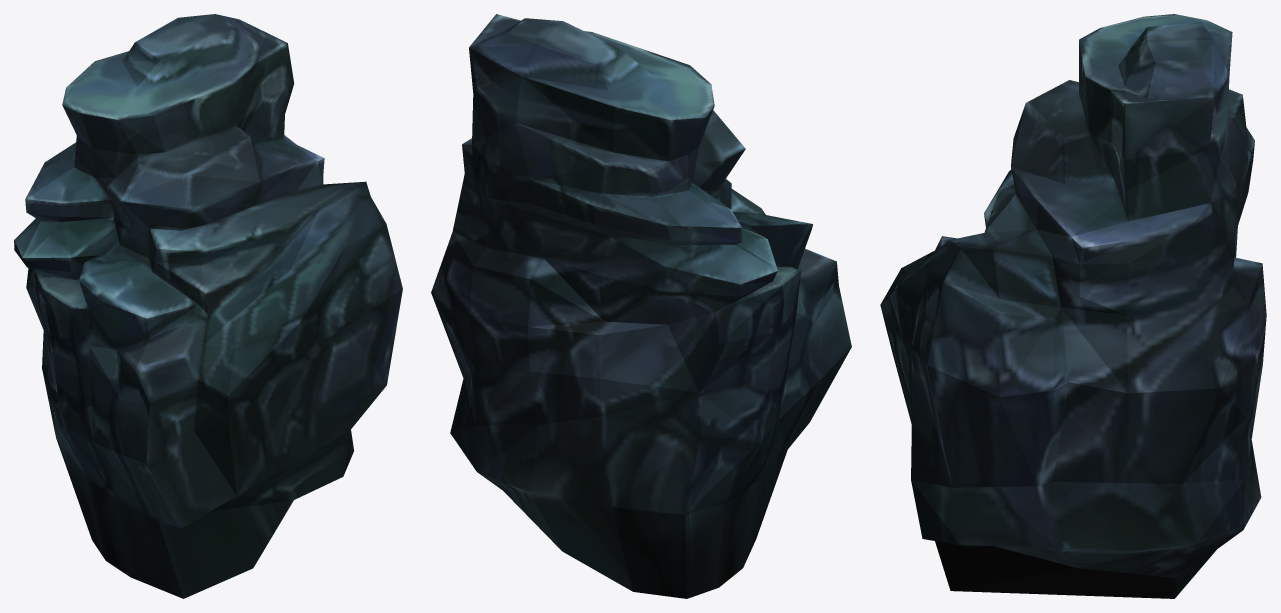
File: H_Maze_shitou02.FBX
3 renders of one model, left to right at view 1: azimuth 30°, elevation 25°; view 2: azimuth 150°, elevation 25°; view 3: azimuth 270°, elevation 25°, orthographic. The views are drawn at different scales.
Parts seen in each view (by area): view 1: shitou02; view 2: shitou02; view 3: shitou02.
Boxes of the visible parts, box(x1,y1,x2,y2) form: shitou02: box(14, 14, 402, 598); shitou02: box(431, 14, 851, 598); shitou02: box(880, 14, 1266, 598).
Bounding box in the file's own units: 210 × 310 × 182.
